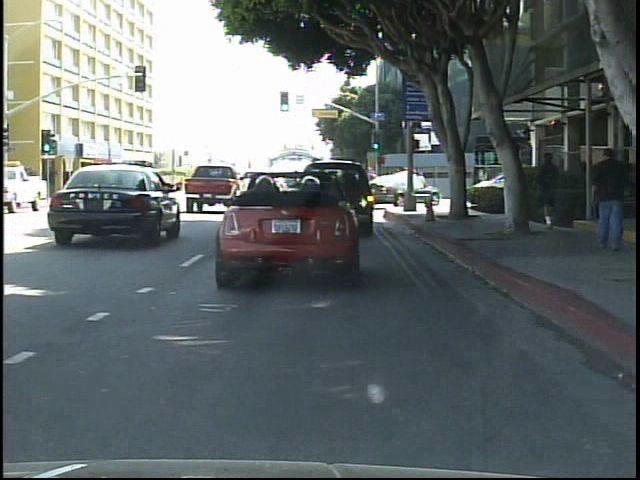person: (588, 141, 636, 260), (531, 146, 570, 236), (135, 175, 153, 202)
